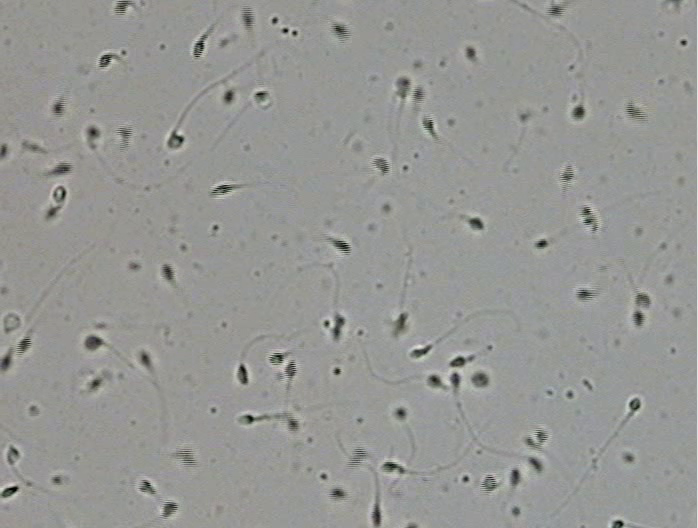S: (579, 205, 599, 233), (116, 125, 132, 149), (625, 104, 647, 121), (161, 499, 179, 519), (331, 238, 351, 256), (178, 449, 197, 467), (331, 23, 350, 41), (349, 448, 366, 468), (16, 336, 32, 357), (331, 315, 345, 339), (393, 313, 407, 337), (372, 157, 390, 175), (481, 474, 498, 493), (241, 5, 255, 28), (396, 76, 410, 99), (381, 462, 406, 474), (559, 164, 574, 184), (167, 132, 184, 149), (6, 445, 20, 465), (211, 184, 234, 196), (635, 292, 651, 309), (534, 427, 549, 445), (52, 185, 66, 204), (237, 364, 249, 386), (52, 162, 72, 175), (472, 372, 489, 387), (421, 116, 435, 134), (411, 87, 425, 105), (284, 360, 297, 379), (371, 505, 382, 527), (575, 288, 595, 300), (632, 310, 646, 327), (193, 39, 205, 58), (528, 456, 543, 471), (161, 264, 174, 281), (268, 352, 285, 365), (328, 487, 345, 500), (468, 217, 485, 230), (410, 347, 430, 358), (1, 486, 19, 498), (509, 468, 521, 486), (546, 4, 564, 16), (114, 1, 129, 15), (98, 54, 113, 68), (570, 106, 585, 120), (52, 101, 65, 117), (85, 336, 101, 349), (450, 356, 466, 368), (138, 480, 152, 493), (534, 238, 549, 250), (87, 126, 100, 139), (138, 351, 150, 365), (287, 417, 299, 431), (427, 375, 441, 387), (450, 373, 461, 388), (1, 354, 10, 372), (238, 414, 254, 424), (88, 378, 101, 390), (629, 398, 641, 411), (524, 436, 536, 449), (254, 91, 268, 102), (465, 46, 476, 60), (46, 207, 58, 219), (224, 90, 234, 104), (395, 408, 406, 419), (1, 144, 8, 159), (613, 520, 624, 528), (405, 524, 416, 528)
